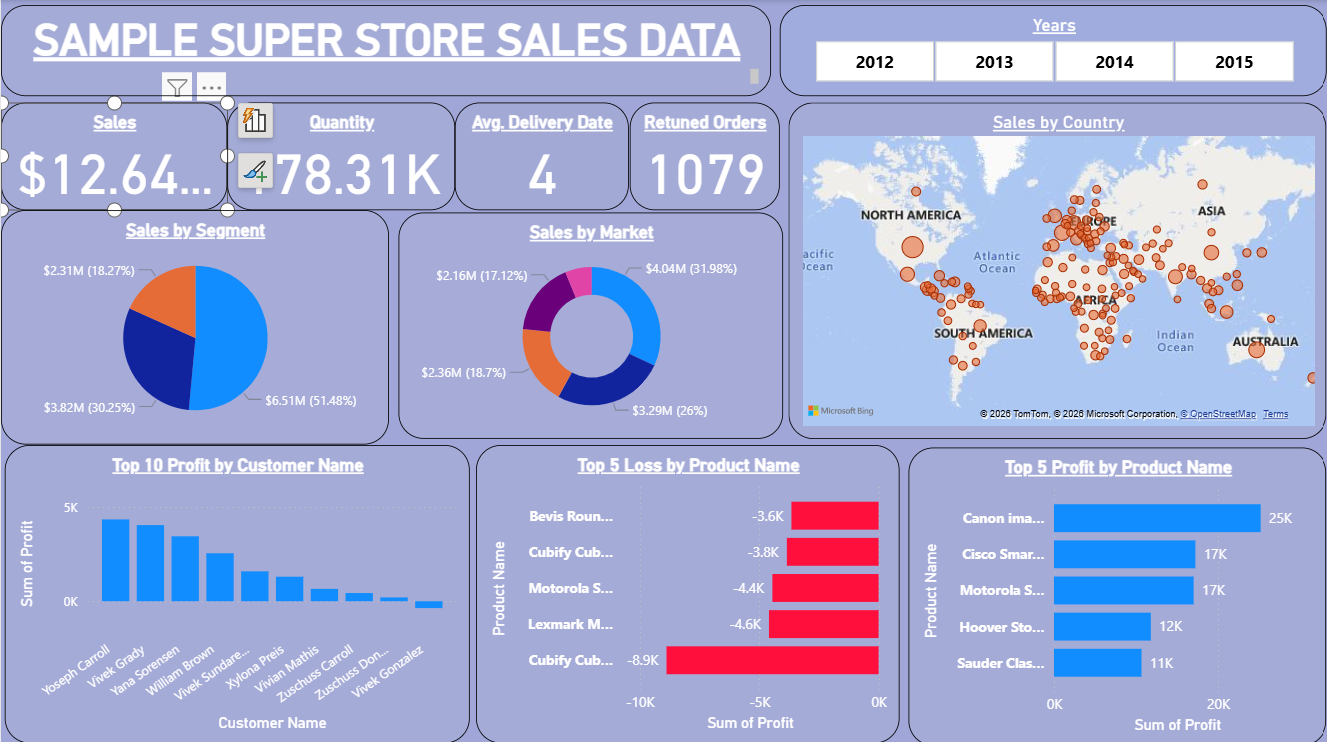

This screenshot's page, from the dashboard's own definition file:
{"tool":"powerbi","page":{"name":"Page 1","canvas":[1280,720],"ordinal":0},"visuals":[{"type":"card","title":"Sales","fields":{"Values":["Sum(Orders.Sales)"]},"box":[0,99.1,218.4,104.1],"z":0},{"type":"card","title":"Quantity","fields":{"Values":["Sum(Orders.Quantity)"]},"box":[218.4,99.1,220.1,104.1],"z":1000},{"type":"card","title":"Avg. Delivery Date","fields":{"Values":["Avg(Orders.Delivery Date)"]},"box":[438.4,99.1,168,104.1],"z":2000},{"type":"card","title":"Retuned Orders","fields":{"Values":["Sum(Returns.Return Orders)"]},"box":[606.4,99.1,144.5,104.1],"z":3000},{"type":"map","title":"Sales by Country","fields":{"Category":["Orders.Country"],"Size":["Sum(Orders.Sales)"]},"box":[760.1,98.9,520,324.5],"z":4000},{"type":"clusteredBarChart","title":"Top 5 Profit by Product Name","fields":{"Category":["Orders.Product Name"],"Y":["Sum(Orders.Profit)"]},"box":[875.9,431.9,404.2,288.3],"z":5000},{"type":"clusteredBarChart","title":"Top 5 Loss by Product Name","fields":{"Category":["Orders.Product Name"],"Y":["Sum(Orders.Profit)"]},"box":[458.4,429.5,409,288.3],"z":6000},{"type":"clusteredColumnChart","title":"Top 10 Profit by Customer Name","fields":{"Category":["Orders.Customer Name"],"Y":["Sum(Orders.Profit)"]},"box":[3.6,429.5,448.8,288.3],"z":7000},{"type":"pieChart","title":"Sales by Segment","fields":{"Category":["Orders.Segment"],"Y":["Sum(Orders.Sales)"]},"box":[0,202.7,374.2,226.8],"z":8000},{"type":"donutChart","title":"Sales by Market","fields":{"Category":["Orders.Market"],"Y":["Sum(Orders.Sales)"]},"box":[383.6,205.1,371.6,218.4],"z":9000},{"type":"slicer","title":"Years","fields":{"Values":["Orders.Year"]},"box":[751.6,4.8,528.4,88.1],"z":10000},{"type":"textbox","title":"SAMPLE SUPER STORE SALES DATA","box":[0,4.8,743.2,88.1],"z":11000}]}

Visuals, with their boxes in screenshot pixels (x1, y1, x2, y2), scaled from the page's 1280x720 canvas onto the 1327x742 screenshot:
"Sales" card: <bbox>0, 102, 226, 209</bbox>
"Quantity" card: <bbox>226, 102, 455, 209</bbox>
"Avg. Delivery Date" card: <bbox>454, 102, 629, 209</bbox>
"Retuned Orders" card: <bbox>629, 102, 778, 209</bbox>
"Sales by Country" map: <bbox>788, 102, 1326, 436</bbox>
"Top 5 Profit by Product Name" clusteredBarChart: <bbox>908, 445, 1326, 741</bbox>
"Top 5 Loss by Product Name" clusteredBarChart: <bbox>475, 443, 899, 740</bbox>
"Top 10 Profit by Customer Name" clusteredColumnChart: <bbox>4, 443, 469, 740</bbox>
"Sales by Segment" pieChart: <bbox>0, 209, 388, 443</bbox>
"Sales by Market" donutChart: <bbox>398, 211, 783, 436</bbox>
"Years" slicer: <bbox>779, 5, 1326, 96</bbox>
"SAMPLE SUPER STORE SALES DATA" textbox: <bbox>0, 5, 770, 96</bbox>
